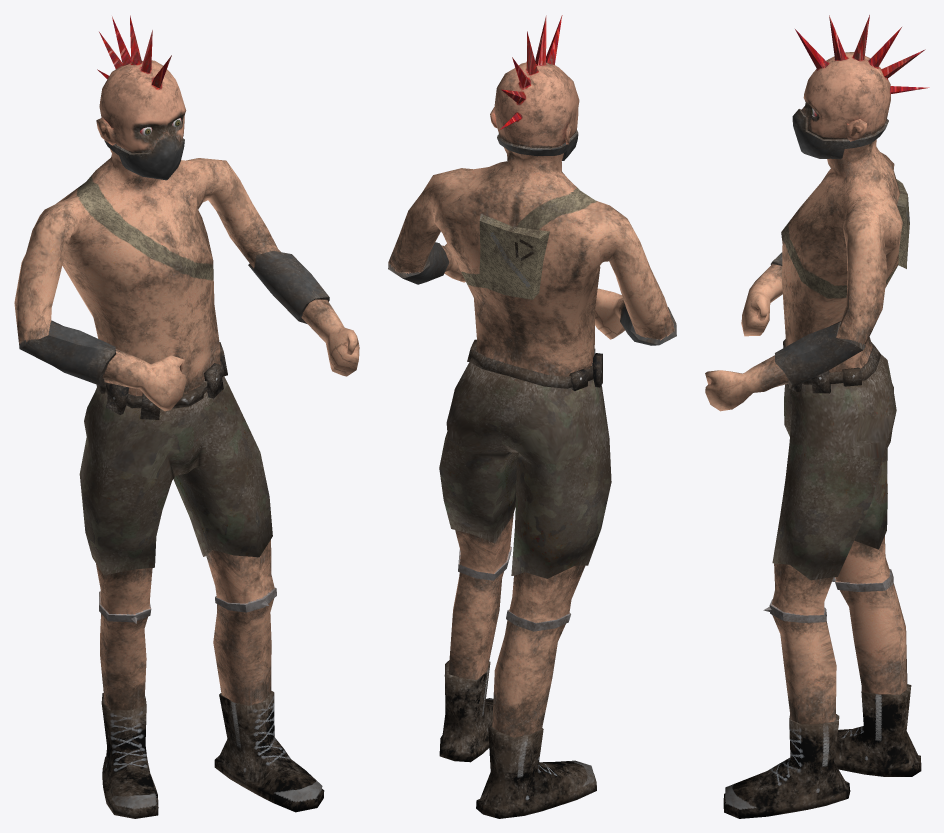
Rendered from Anim_disparar_ametralladora_npc2.0033.obj.
3 views of the same model, side by side, from view 1: azimuth 30°, elevation 25°; view 2: azimuth 150°, elevation 25°; view 3: azimuth 270°, elevation 25° (orthographic). The views are drawn at different scales.
Visible parts, largest first — view 1: polySurface1; view 2: polySurface1; view 3: polySurface1.
Boxes of the visible parts, left/top/right/bottom form: polySurface1: left=14, top=15, right=359, bottom=818; polySurface1: left=388, top=15, right=676, bottom=818; polySurface1: left=705, top=15, right=929, bottom=818.
Size of the model in its own units: 3.93 by 10.15 by 2.75.
Materials: 2 (2 with a texture image).
